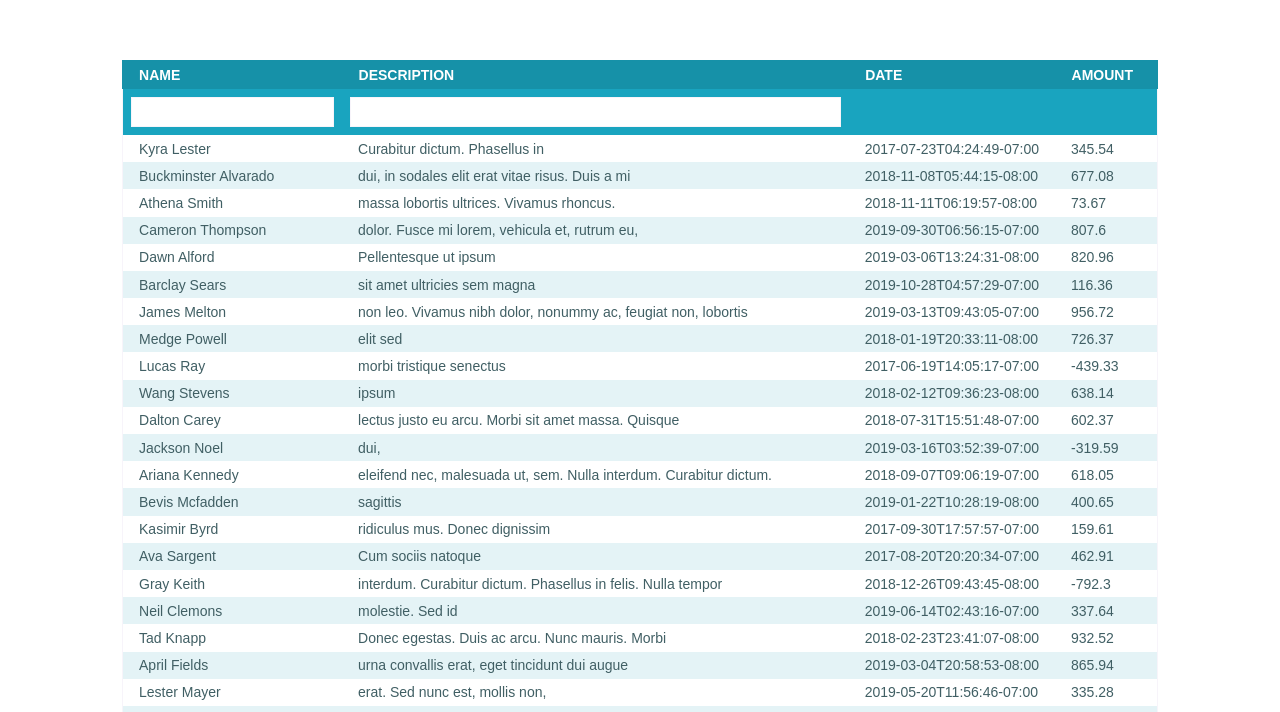
Test: Tests editability › Shows one editing box when clicks edit button
The image size is (1280, 712).
Hover over the cell "Curabitur dictum. Phasellus in" at x=451, y=149, box top-left (342, 135), bottom-right (849, 162)
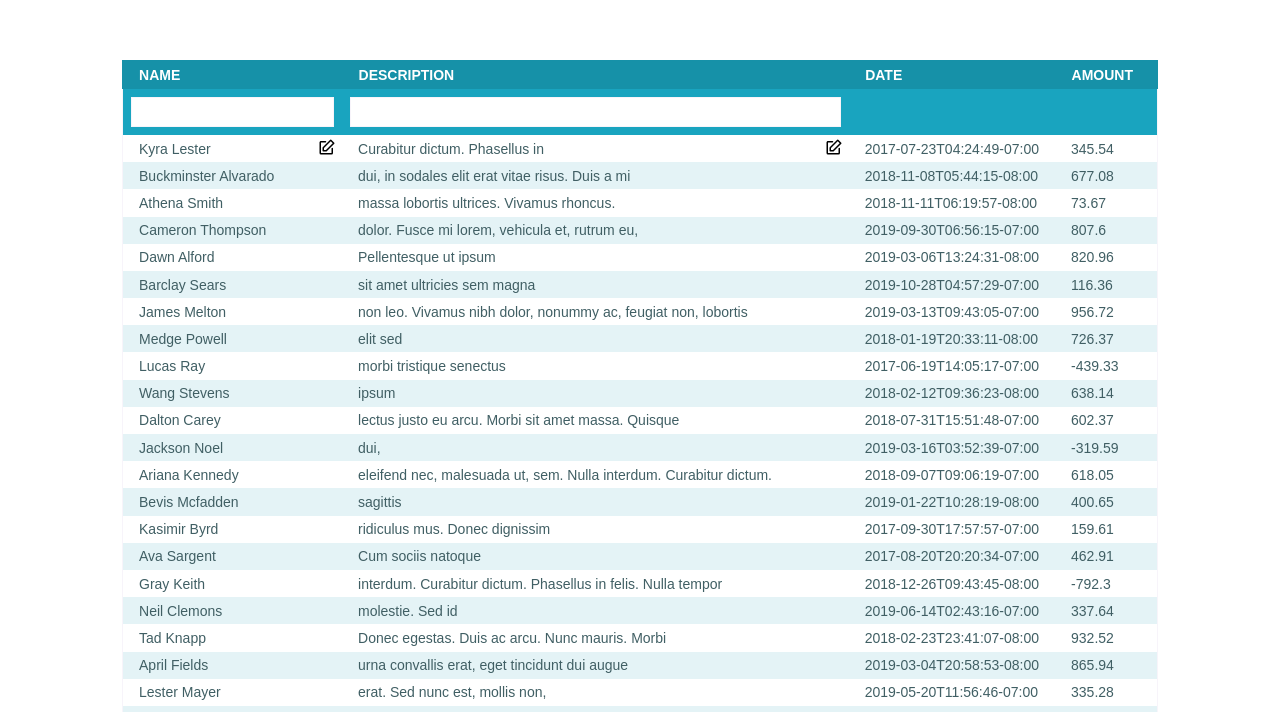
Click the 2nd button with class "edit-btn" at x=834, y=149, box top-left (819, 137), bottom-right (849, 160)
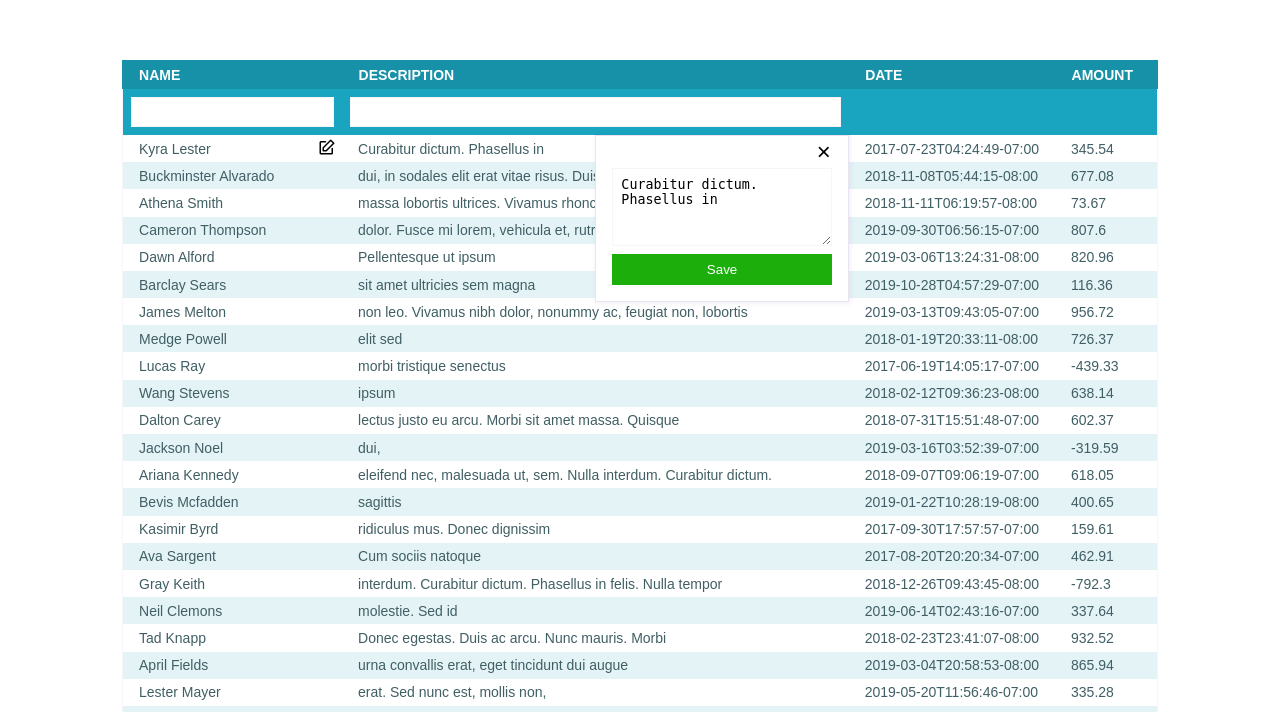
Now the number of elements with class "edit-box" is 1, box top-left (595, 135), bottom-right (848, 302)
